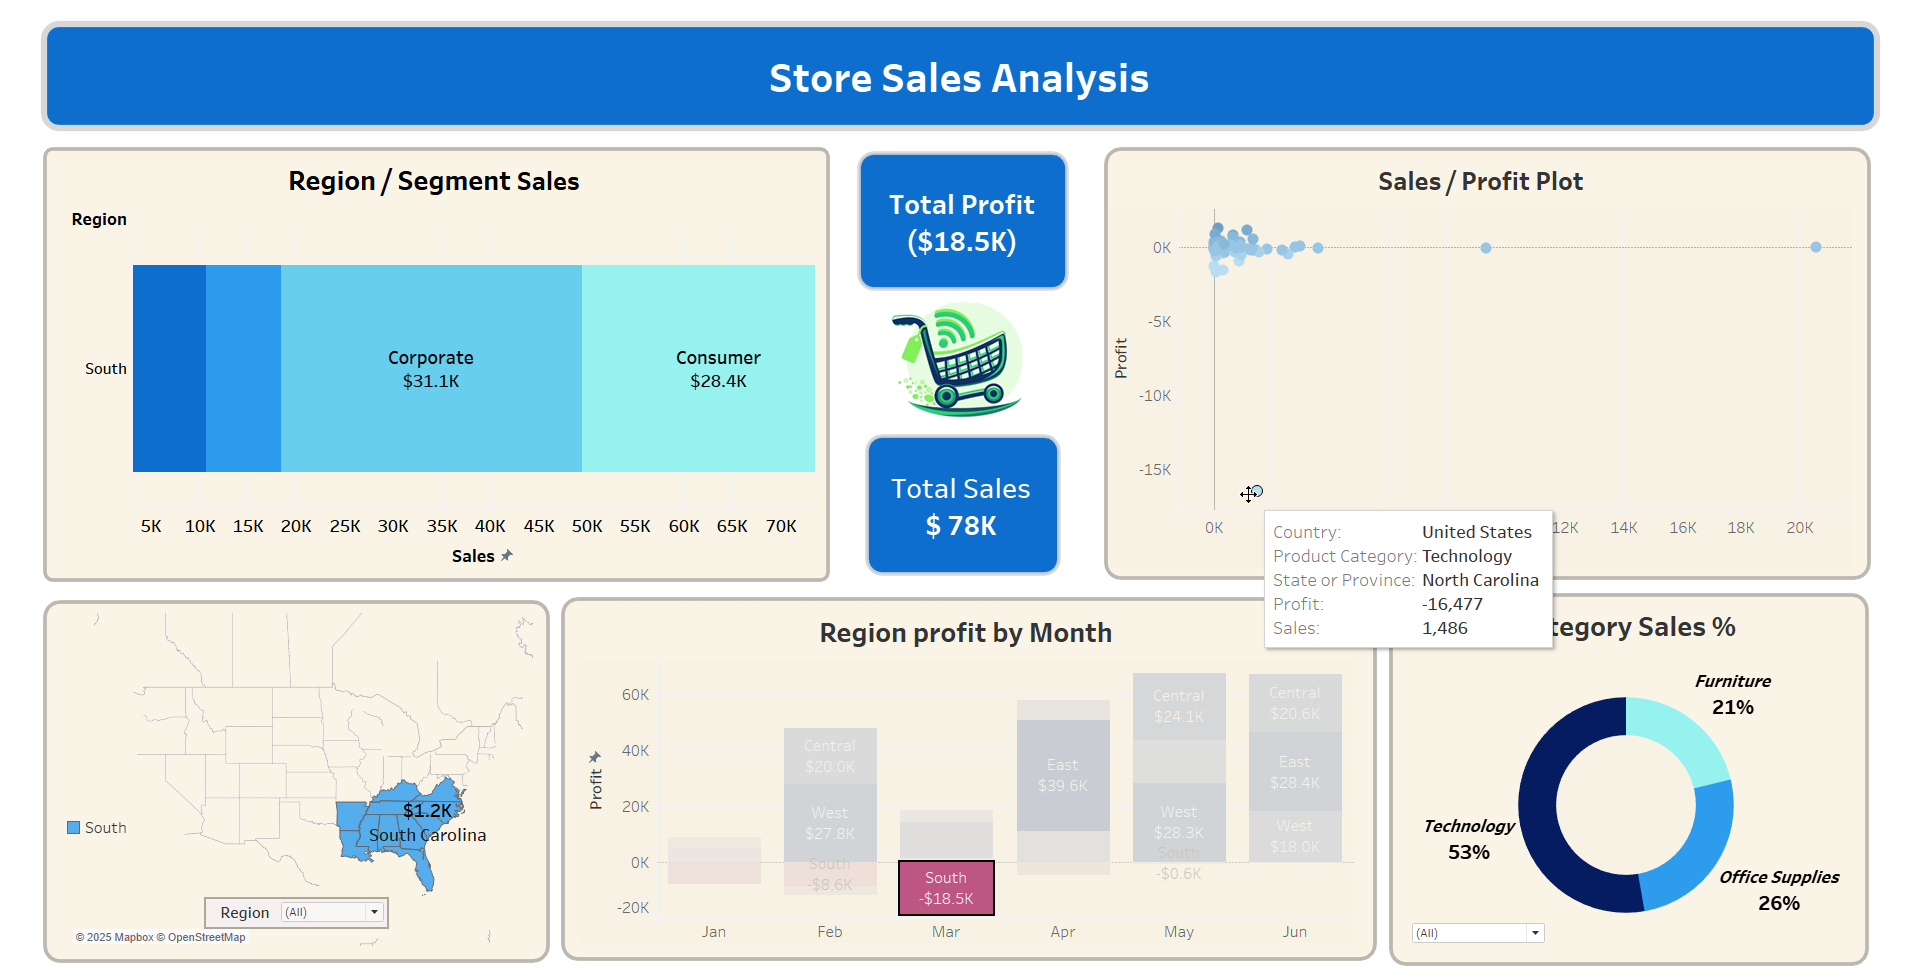

The page's visual inventory and layout, read from the dashboard file:
{"tool":"tableau","page":{"name":"Dashboard 2","canvas":[1000,1000],"units":"permille","ordinal":1},"visuals":[{"type":"worksheet","title":"design","mark":"Automatic","box":[4.8,9.7,990.3,980.6]},{"type":"worksheet","title":"Barchart","mark":"Automatic","rows":["Region"],"cols":["Sales"],"box":[27.2,160,397.7,417]},{"type":"worksheet","title":"profit card","mark":"Automatic","box":[454.4,161.2,92.9,126.1]},{"type":"worksheet","title":"scatter","mark":"Automatic","rows":["Profit"],"cols":["Sales"],"box":[578.1,162.4,386.2,408.5]},{"type":"image","param":"G:/A GM/ShareX/Screenshots/2025-05/brave_w6j5kx6dtM.png","box":[464.1,300.6,68.8,122.4]},{"type":"worksheet","title":"sales card","mark":"Automatic","box":[455.6,448.5,89.3,120]},{"type":"worksheet","title":"Donut","mark":"Pie","rows":["Calculation_2244762950155411456","Calculation_2244762950155431937"],"box":[732.1,606.1,229.3,350.3]},{"type":"worksheet","title":"Trend bar","mark":"Bar","rows":["Profit"],"cols":["Order Date"],"box":[301.2,612.1,404.4,333.3]},{"type":"worksheet","title":"Map","mark":"Multipolygon","box":[36.2,614.6,241.4,333.3]},{"type":"legend","title":"Map","param":"[federated.0akl8o1068ae7p15jsy2k10h22pm].[none:Region:nk]","box":[32.6,819.4,49.5,128.5]},{"type":"filter","title":"Map","param":"[federated.0akl8o1068ae7p15jsy2k10h22pm].[none:Region:nk]","box":[106.2,899.4,96.6,31.5]},{"type":"filter","title":"Donut","param":"[federated.0akl8o1068ae7p15jsy2k10h22pm].[none:Product Category:nk]","box":[733.9,922.4,72.4,26.7]}]}

Visuals, with their boxes on the dashboard's canvas, which has no fixed pixel size, in thousandths of its width and height (x1, y1, x2, y2). These are canvas units, not pixel positions in the 1919x977 screenshot, which may show the page scaled, cropped or inside an application window:
"design" worksheet: {"left": 5, "top": 10, "right": 995, "bottom": 990}
"Barchart" worksheet: {"left": 27, "top": 160, "right": 425, "bottom": 577}
"profit card" worksheet: {"left": 454, "top": 161, "right": 547, "bottom": 287}
"scatter" worksheet: {"left": 578, "top": 162, "right": 964, "bottom": 571}
image: {"left": 464, "top": 301, "right": 533, "bottom": 423}
"sales card" worksheet: {"left": 456, "top": 448, "right": 545, "bottom": 568}
"Donut" worksheet (Pie marks): {"left": 732, "top": 606, "right": 961, "bottom": 956}
"Trend bar" worksheet (Bar marks): {"left": 301, "top": 612, "right": 706, "bottom": 945}
"Map" worksheet (Multipolygon marks): {"left": 36, "top": 615, "right": 278, "bottom": 948}
"Map" legend: {"left": 33, "top": 819, "right": 82, "bottom": 948}
"Map" filter: {"left": 106, "top": 899, "right": 203, "bottom": 931}
"Donut" filter: {"left": 734, "top": 922, "right": 806, "bottom": 949}
